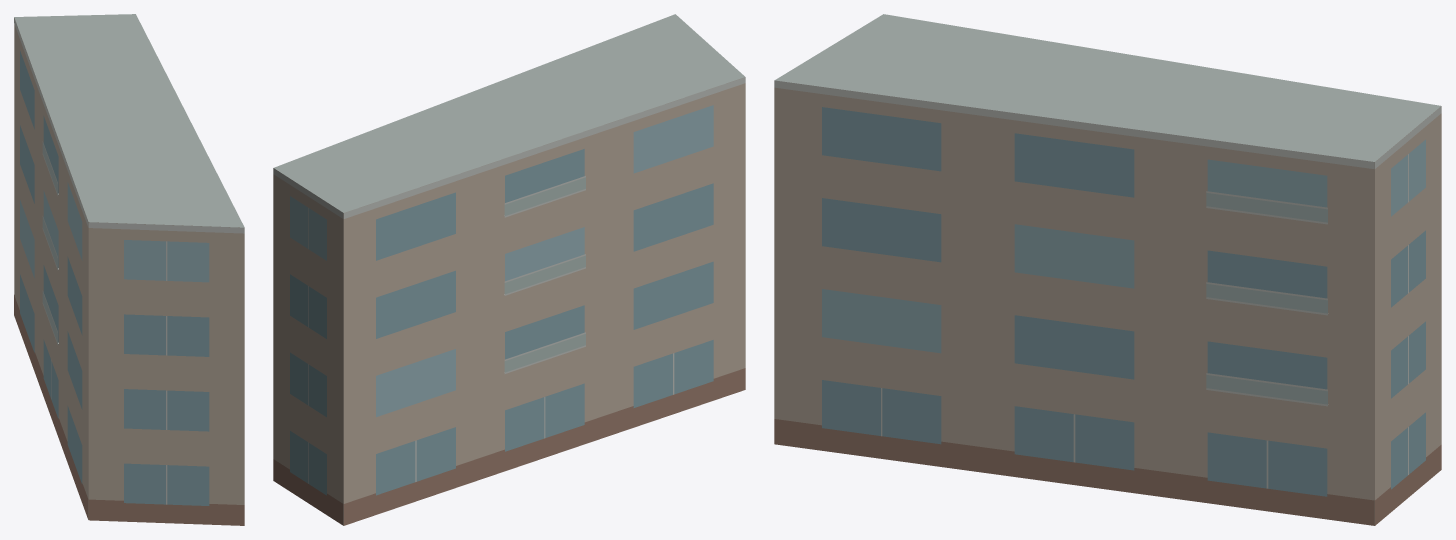
The model's file is survey-upis-32834711.glb.
3 renders of one model, left to right at view 1: azimuth 30°, elevation 25°; view 2: azimuth 150°, elevation 25°; view 3: azimuth 270°, elevation 25°, orthographic. The views are drawn at different scales.
Visible parts, largest first — view 1: survey-upis-32834711.tmp; view 2: survey-upis-32834711.tmp; view 3: survey-upis-32834711.tmp.
Boxes of the visible parts, x1,y1,x2,y2 form: survey-upis-32834711.tmp: (14, 14, 244, 525); survey-upis-32834711.tmp: (273, 14, 745, 525); survey-upis-32834711.tmp: (774, 14, 1441, 525).
Bounding box in the file's own units: 10.74 × 12.3 × 20.45.
